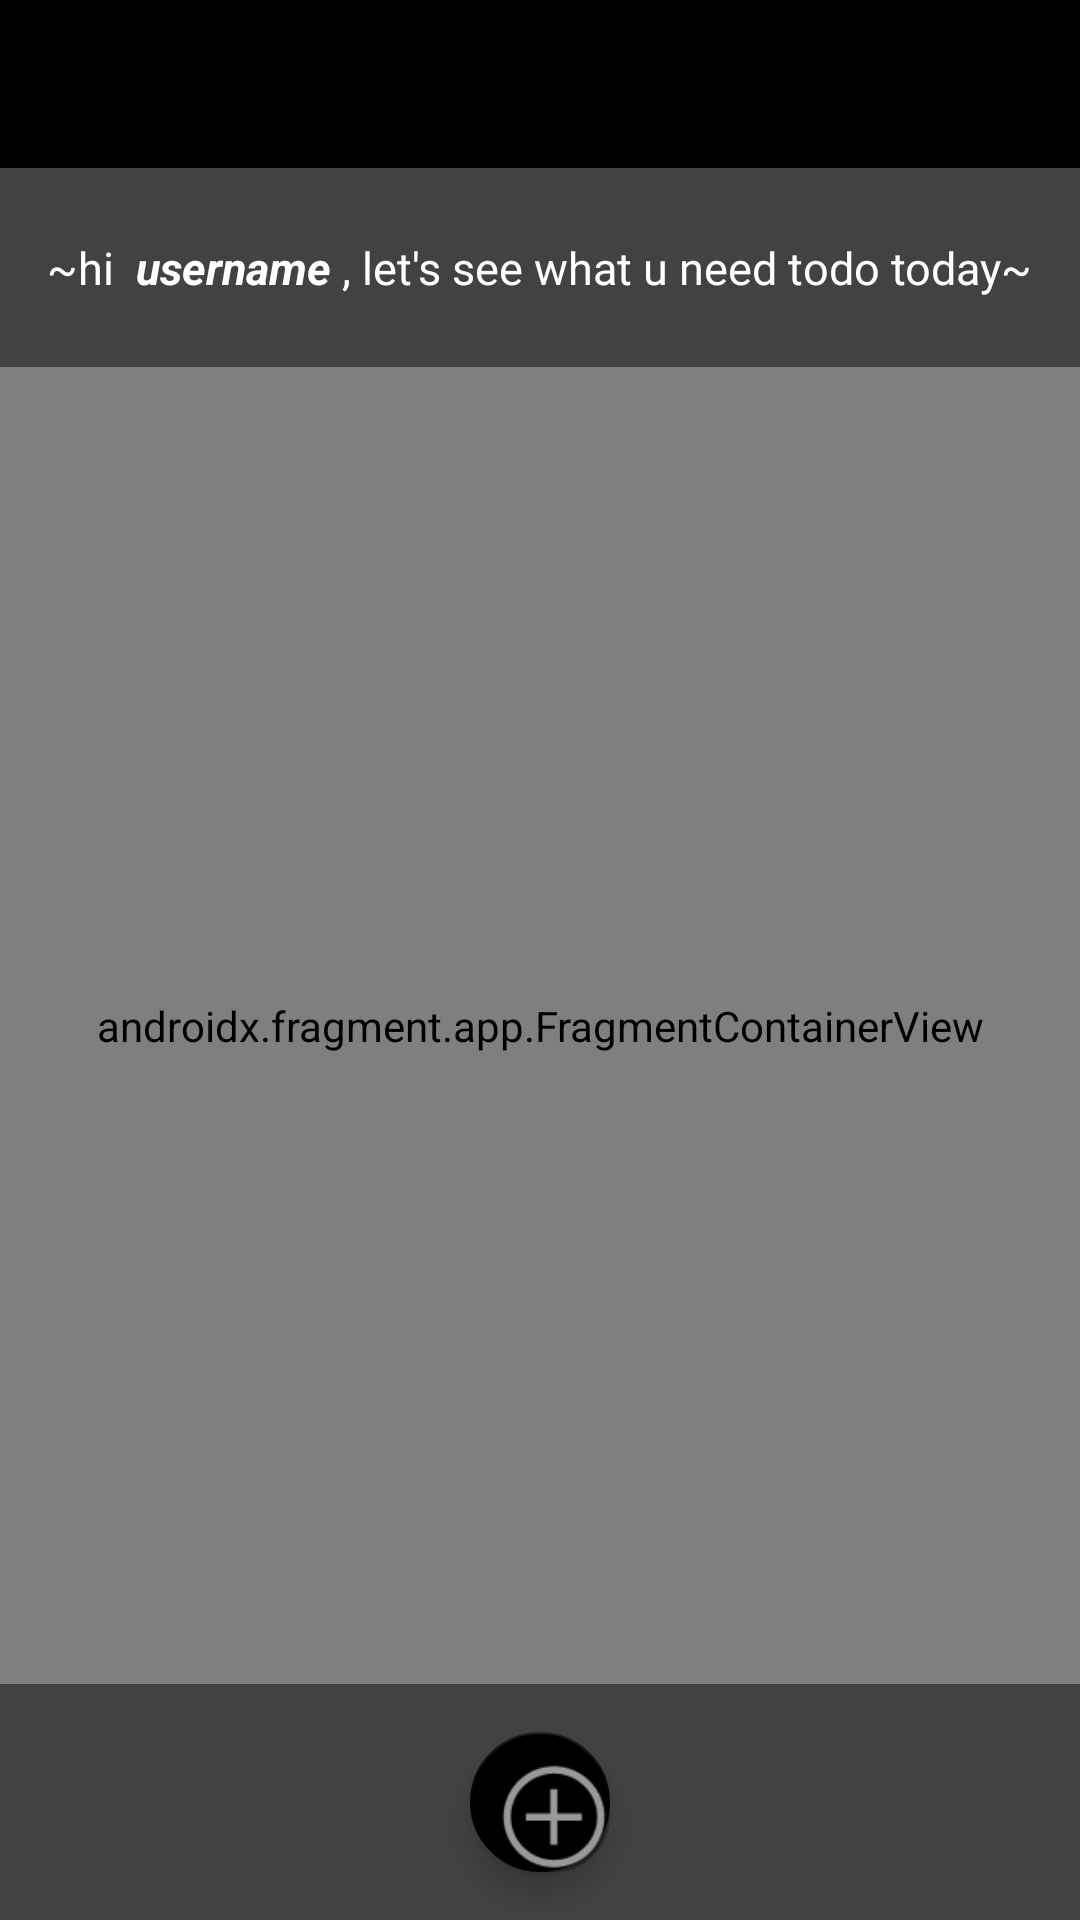

Where to tap for icons on this 1080px×1920px app screen, as point (x, y):
add: point (540, 1802)
